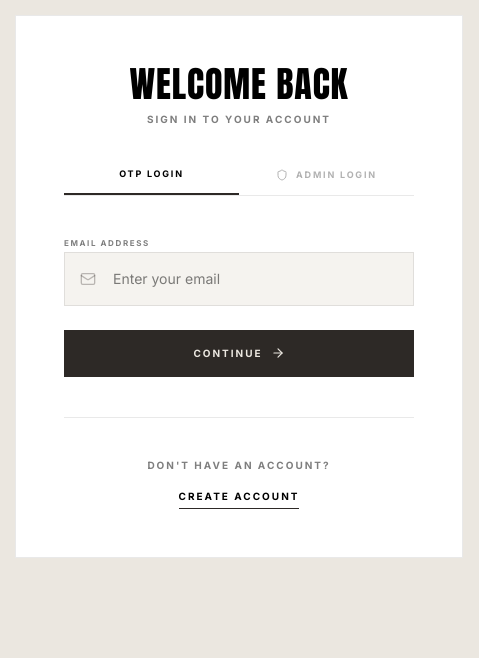
Test: Login › advances to OTP step after sending email
Type "test@test.com" into the field with placeholder "Enter your email".
click(239, 278); type("test@test.com")  # box [64,252,414,306]
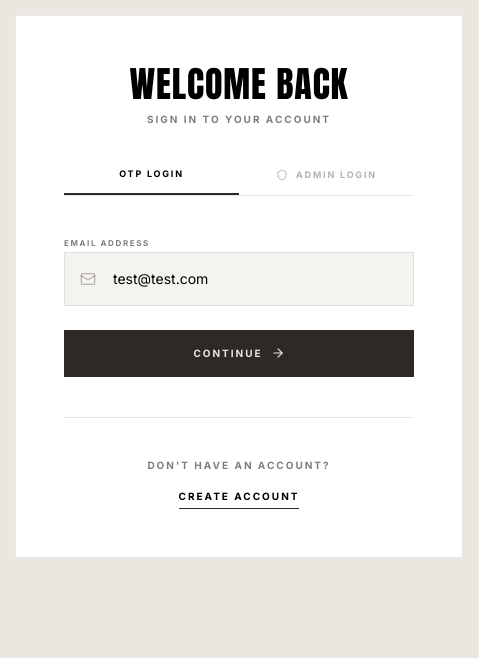
Click the button "Continue".
click(239, 353)  # box [64,330,414,376]
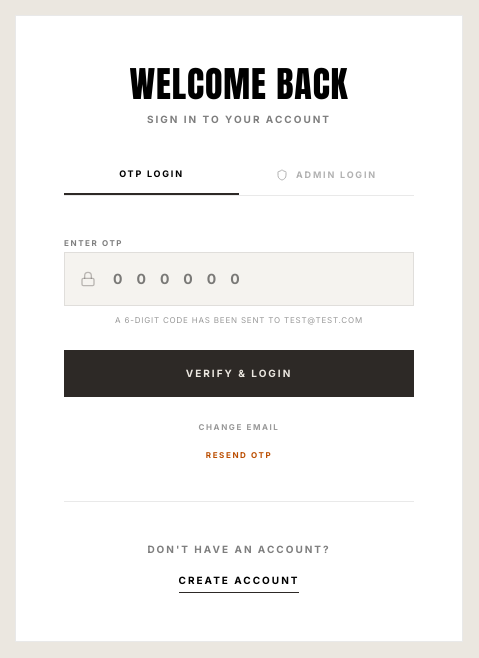
Now the button "Verify & Login" is shown, box [64,350,414,396]
